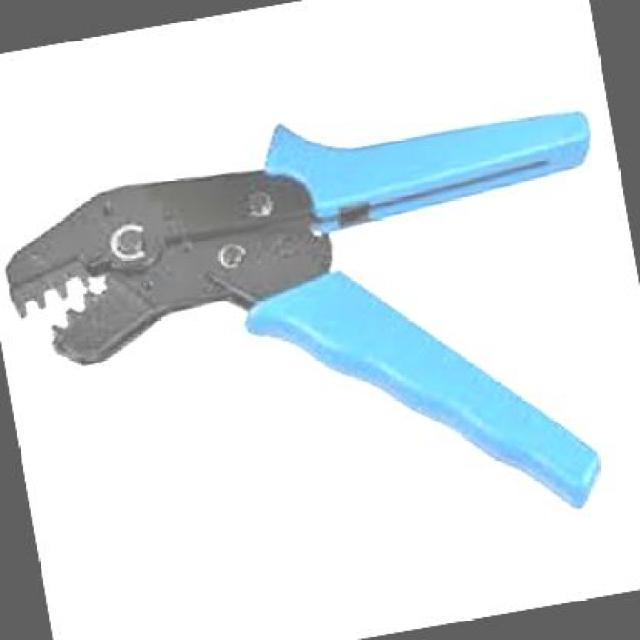pliers: (0, 43, 638, 623)
